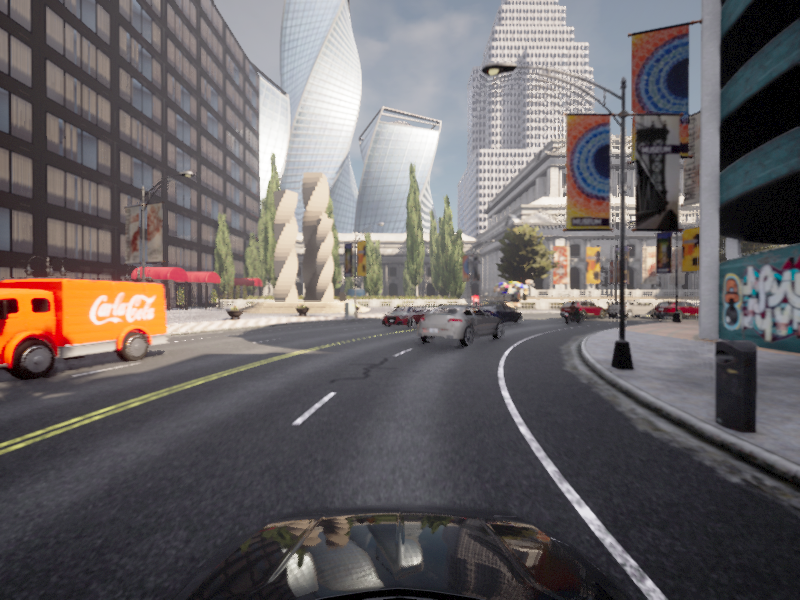vehicle: (410, 303, 506, 350), (377, 305, 439, 329), (465, 303, 525, 327), (705, 300, 777, 319), (648, 300, 711, 320), (555, 300, 610, 320), (602, 300, 661, 318), (655, 302, 720, 317), (560, 301, 587, 325)
